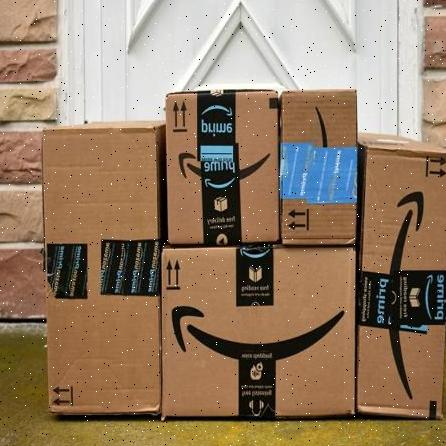Amazon: (41, 119, 164, 426), (164, 243, 355, 420), (357, 128, 446, 421), (166, 88, 280, 241), (281, 86, 356, 241)
